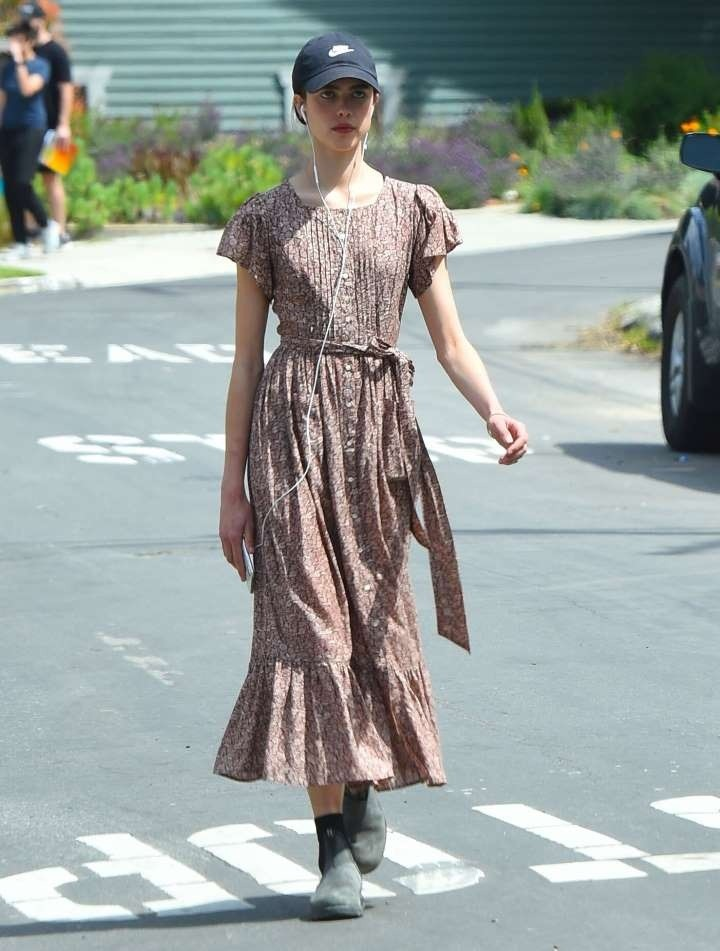face_no_mask: (292, 33, 386, 170)
